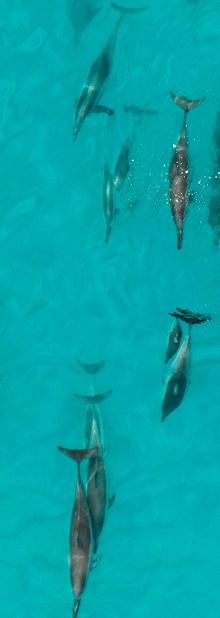dolphin: (68, 2, 149, 145), (54, 442, 103, 618), (72, 390, 117, 569), (162, 87, 207, 253), (157, 307, 212, 424)
